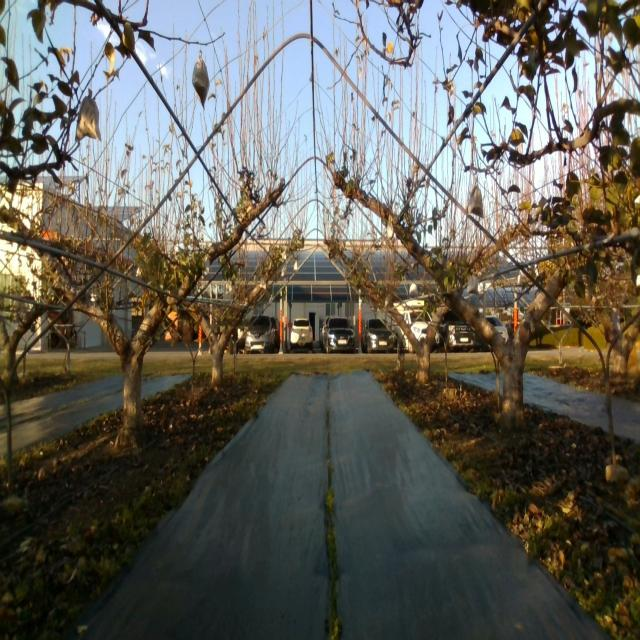pearbags: (75, 96, 102, 143), (192, 54, 210, 109), (467, 186, 484, 220), (466, 275, 479, 295)
